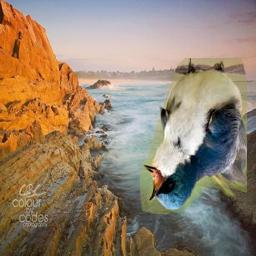Swallow: (141, 58, 248, 214)
